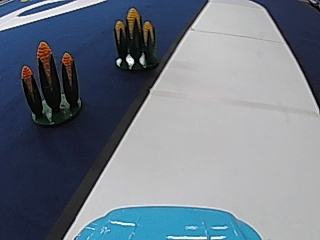corn: (20, 40, 85, 126), (111, 5, 159, 70)
